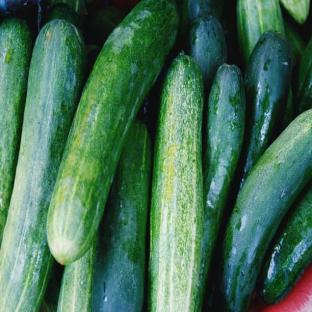Zucchini: (47, 0, 178, 263), (0, 20, 85, 311), (219, 110, 311, 311), (149, 55, 203, 311), (196, 65, 245, 311), (93, 121, 150, 311), (241, 32, 291, 188), (0, 18, 32, 246), (260, 187, 311, 303), (187, 17, 226, 90), (58, 238, 96, 311), (264, 265, 311, 311), (90, 6, 124, 46), (295, 37, 311, 113), (39, 261, 62, 311), (284, 20, 305, 68), (45, 4, 81, 29), (282, 87, 294, 129)
